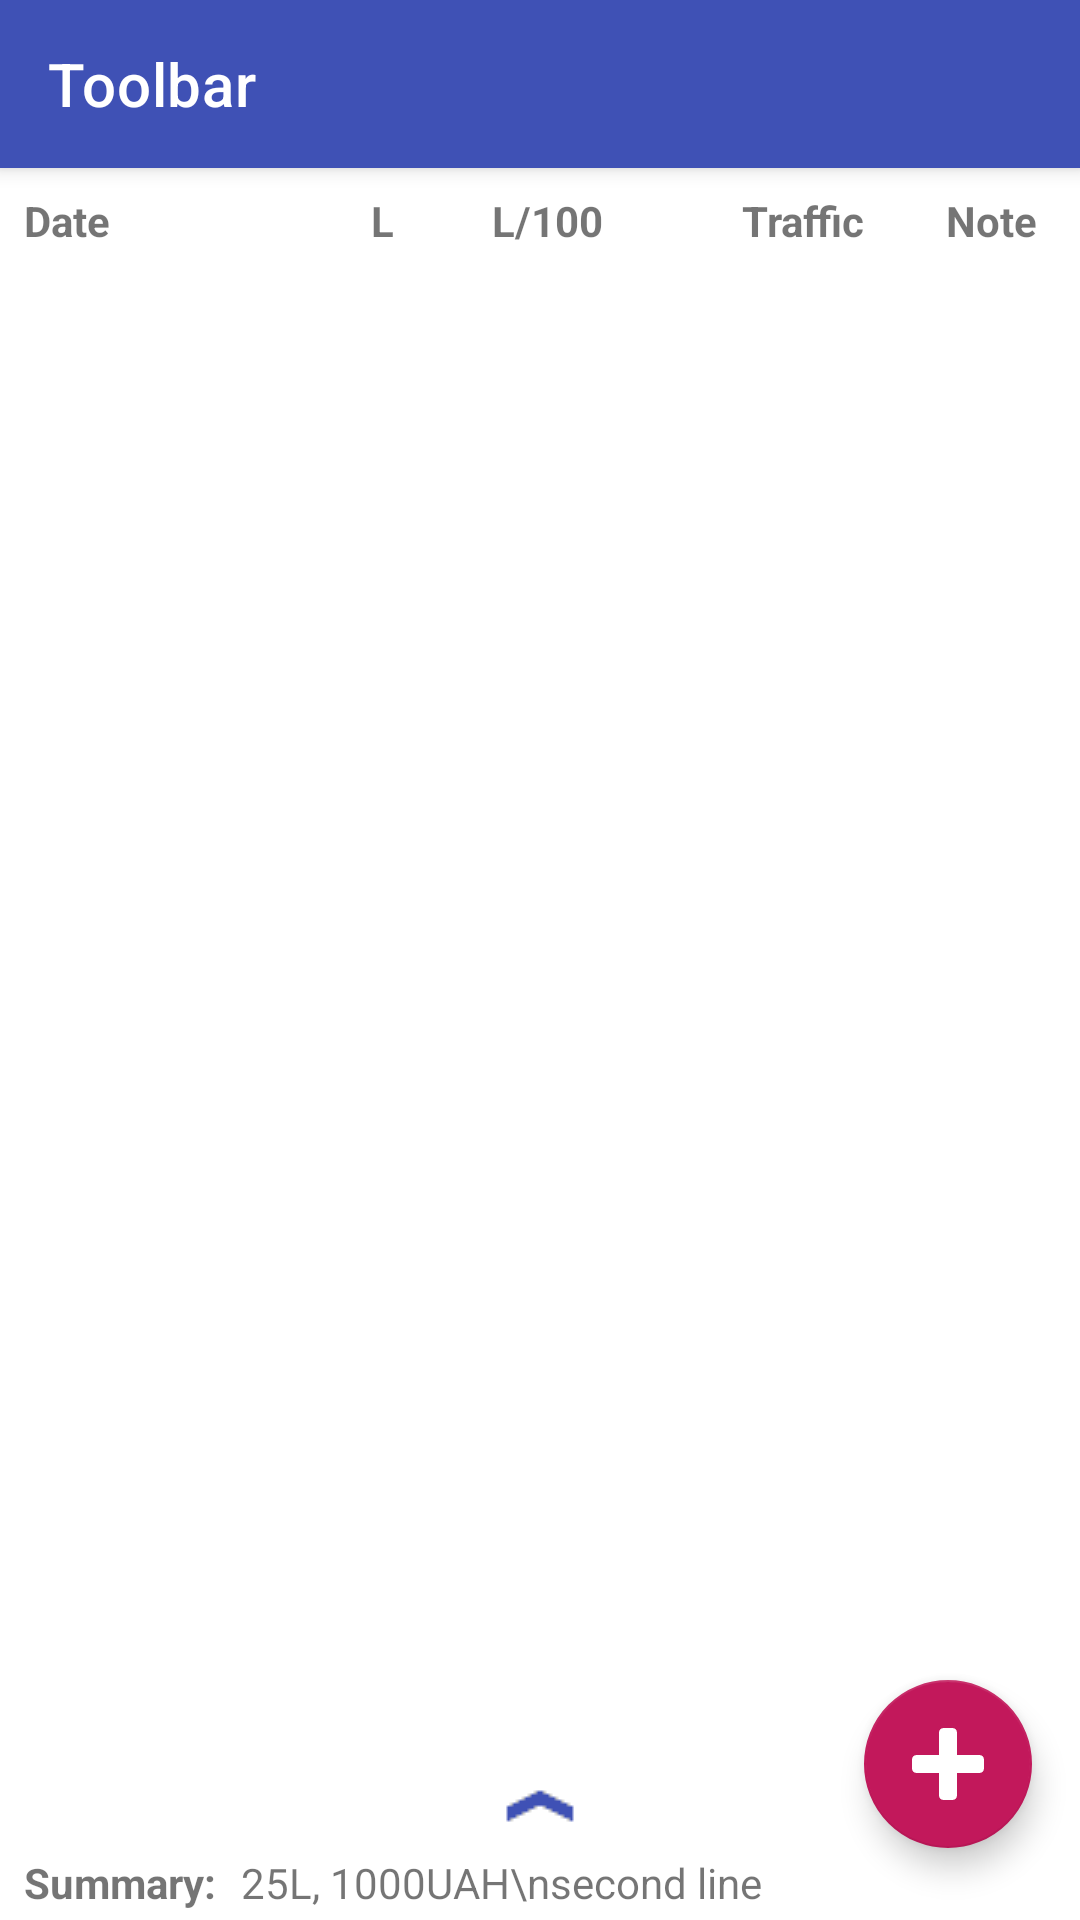

Named icons in this screenshot (1080px×1920px) and their centers, (x,y):
add: (948,1764)
